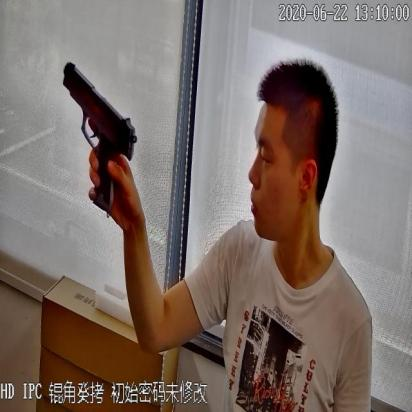Gun: (58, 51, 138, 214)
